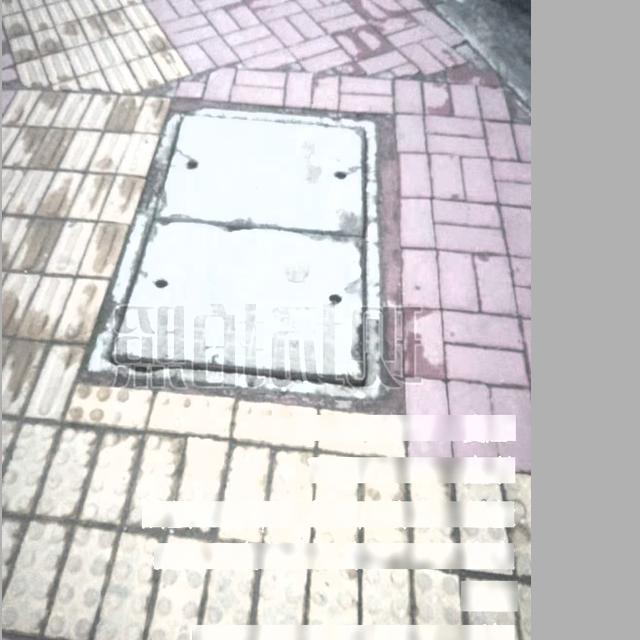good: (86, 105, 380, 395)
